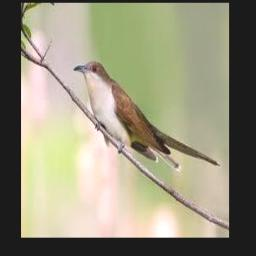Cuckoo: (73, 61, 221, 172)
